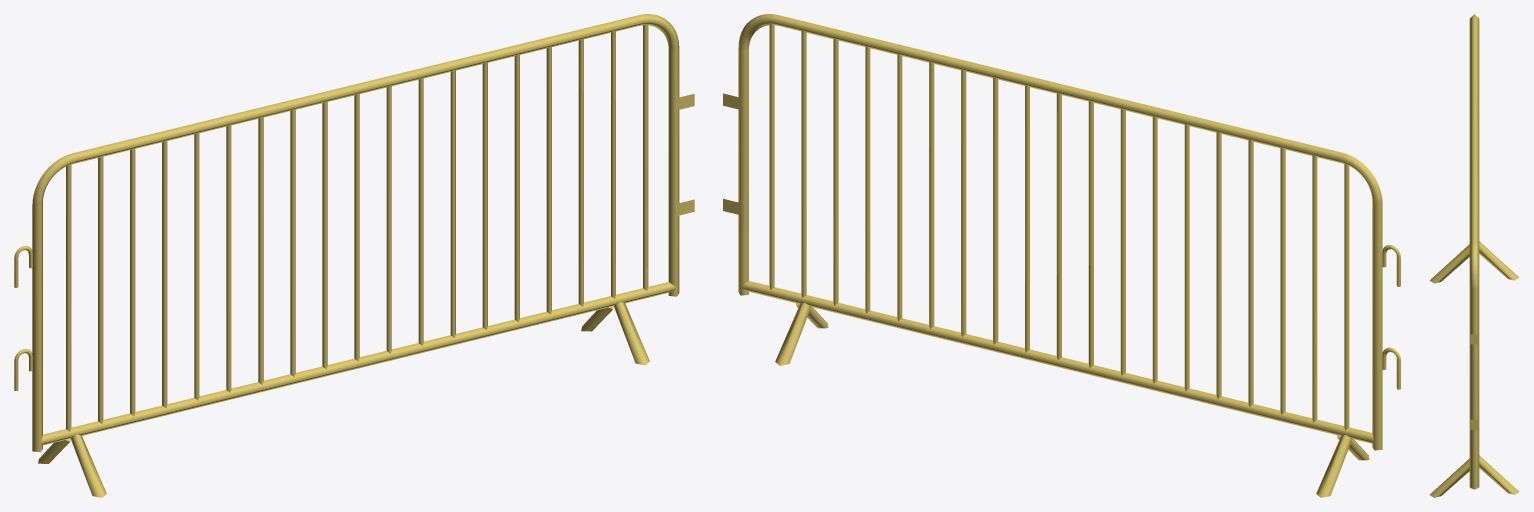
File: barrier.gltf
3 views of the same model, side by side, from view 1: azimuth 30°, elevation 25°; view 2: azimuth 150°, elevation 25°; view 3: azimuth 270°, elevation 25° (orthographic). The views are drawn at different scales.
Visible parts, largest first — view 1: Group#4 (×19), Crowd Barrier, legs (×2); view 2: Group#4 (×19), Crowd Barrier, legs (×2); view 3: Crowd Barrier, legs (×2).
Part boxes in pixels (x1=…): Group#4 (×19): x1=66, y1=24, x2=648, y2=431; Crowd Barrier: x1=32, y1=14, x2=679, y2=452; legs (×2): x1=38, y1=302, x2=649, y2=497; Group#4 (×19): x1=769, y1=23, x2=1349, y2=429; Crowd Barrier: x1=738, y1=14, x2=1382, y2=450; legs (×2): x1=775, y1=303, x2=1369, y2=497; Crowd Barrier: x1=1469, y1=14, x2=1479, y2=489; legs (×2): x1=1429, y1=241, x2=1519, y2=497.
Bounding box in the file's own units: 2.59 × 1.19 × 0.369.
